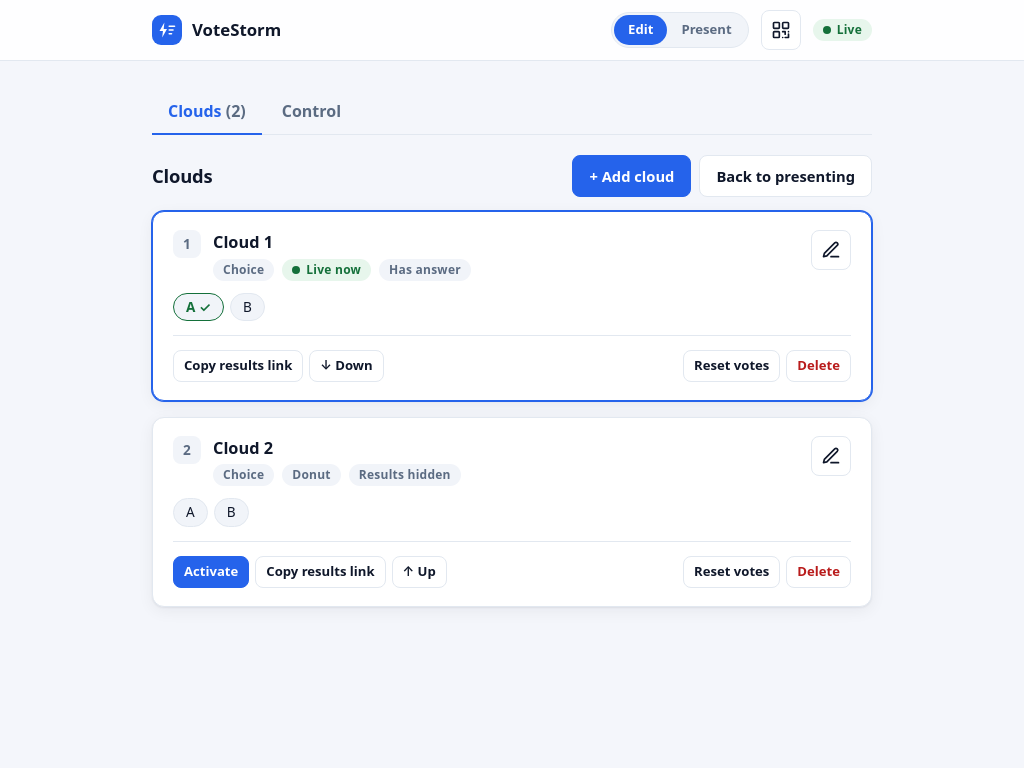
it: PresenterView › offers Back to presenting only while a cloud is live, and the round trip keeps the Storm and the live cloud (Review Focus 5)
Click the button "Present" at [707, 30], box [667,15,746,45]
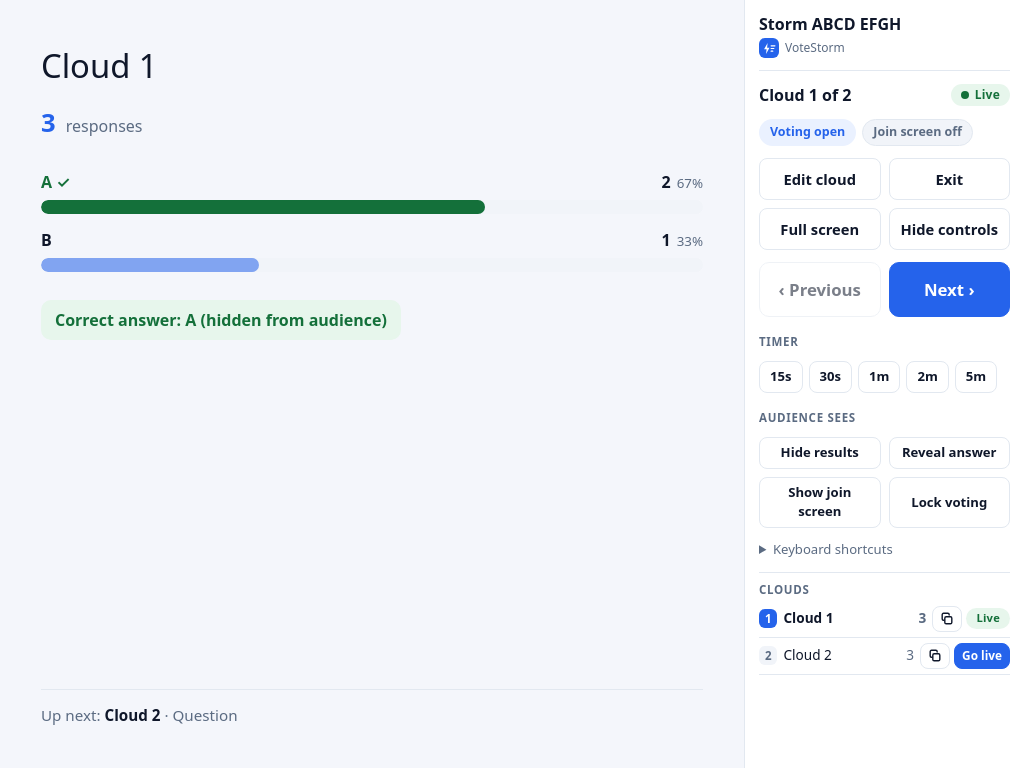
Click the button "Exit" at [949, 179], box [888,158,1010,200]
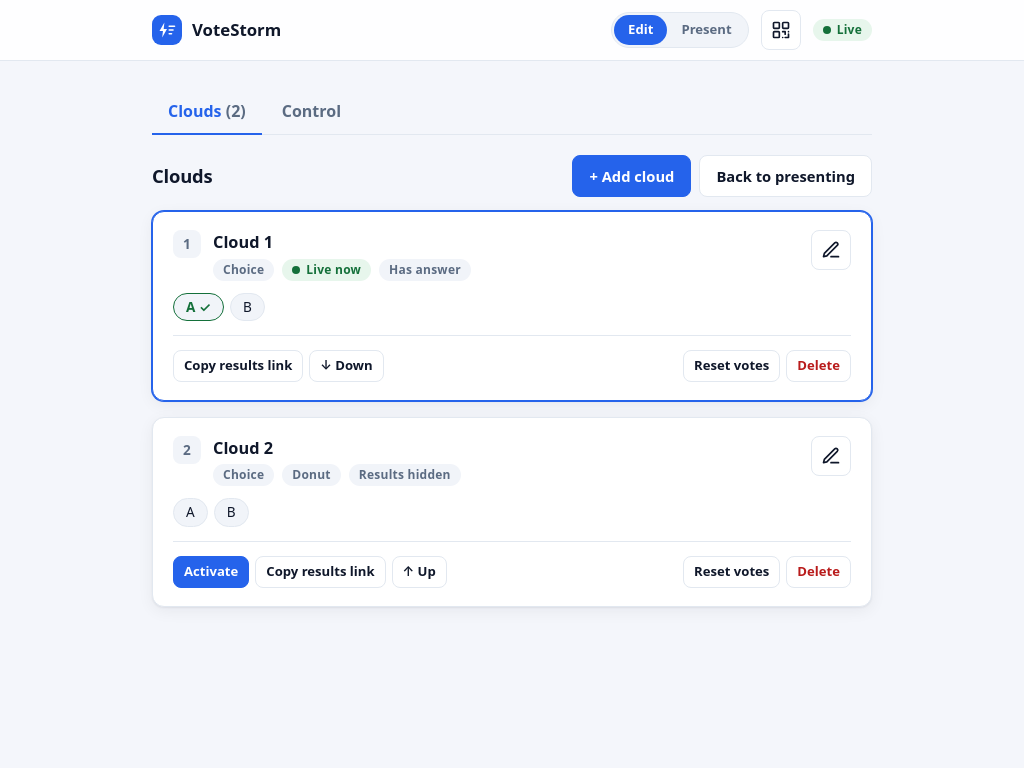
Result: the button "Back to presenting" is shown
Result: the element showing "Clouds + Add cloud Back to presenting" is shown at [152,155,872,197]
Click the button "Back to presenting" at [786, 176], box [699,155,872,197]
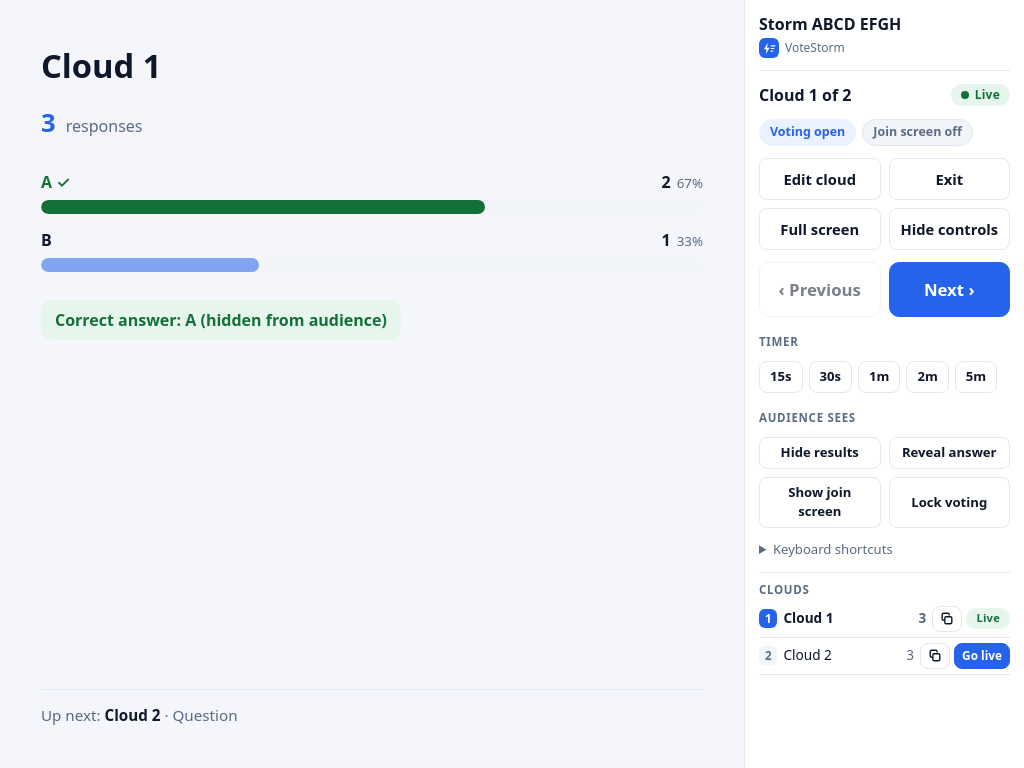
Result: the element with class "stage" shows "Cloud 1" at [41,43,162,88]
Result: the element named "Presenter controls" shows "Cloud 1 of 2" at [759,84,852,106]
